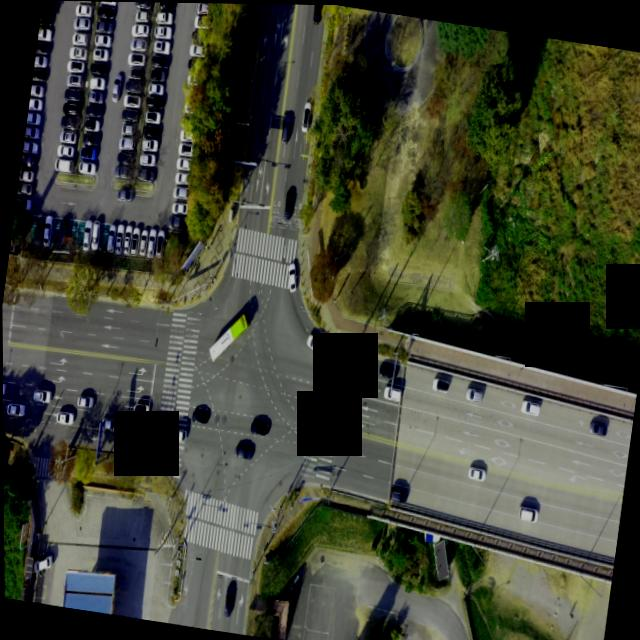car: (53, 153, 75, 175)
large_bus: (205, 308, 248, 367)
small_truck: (165, 421, 187, 443)
